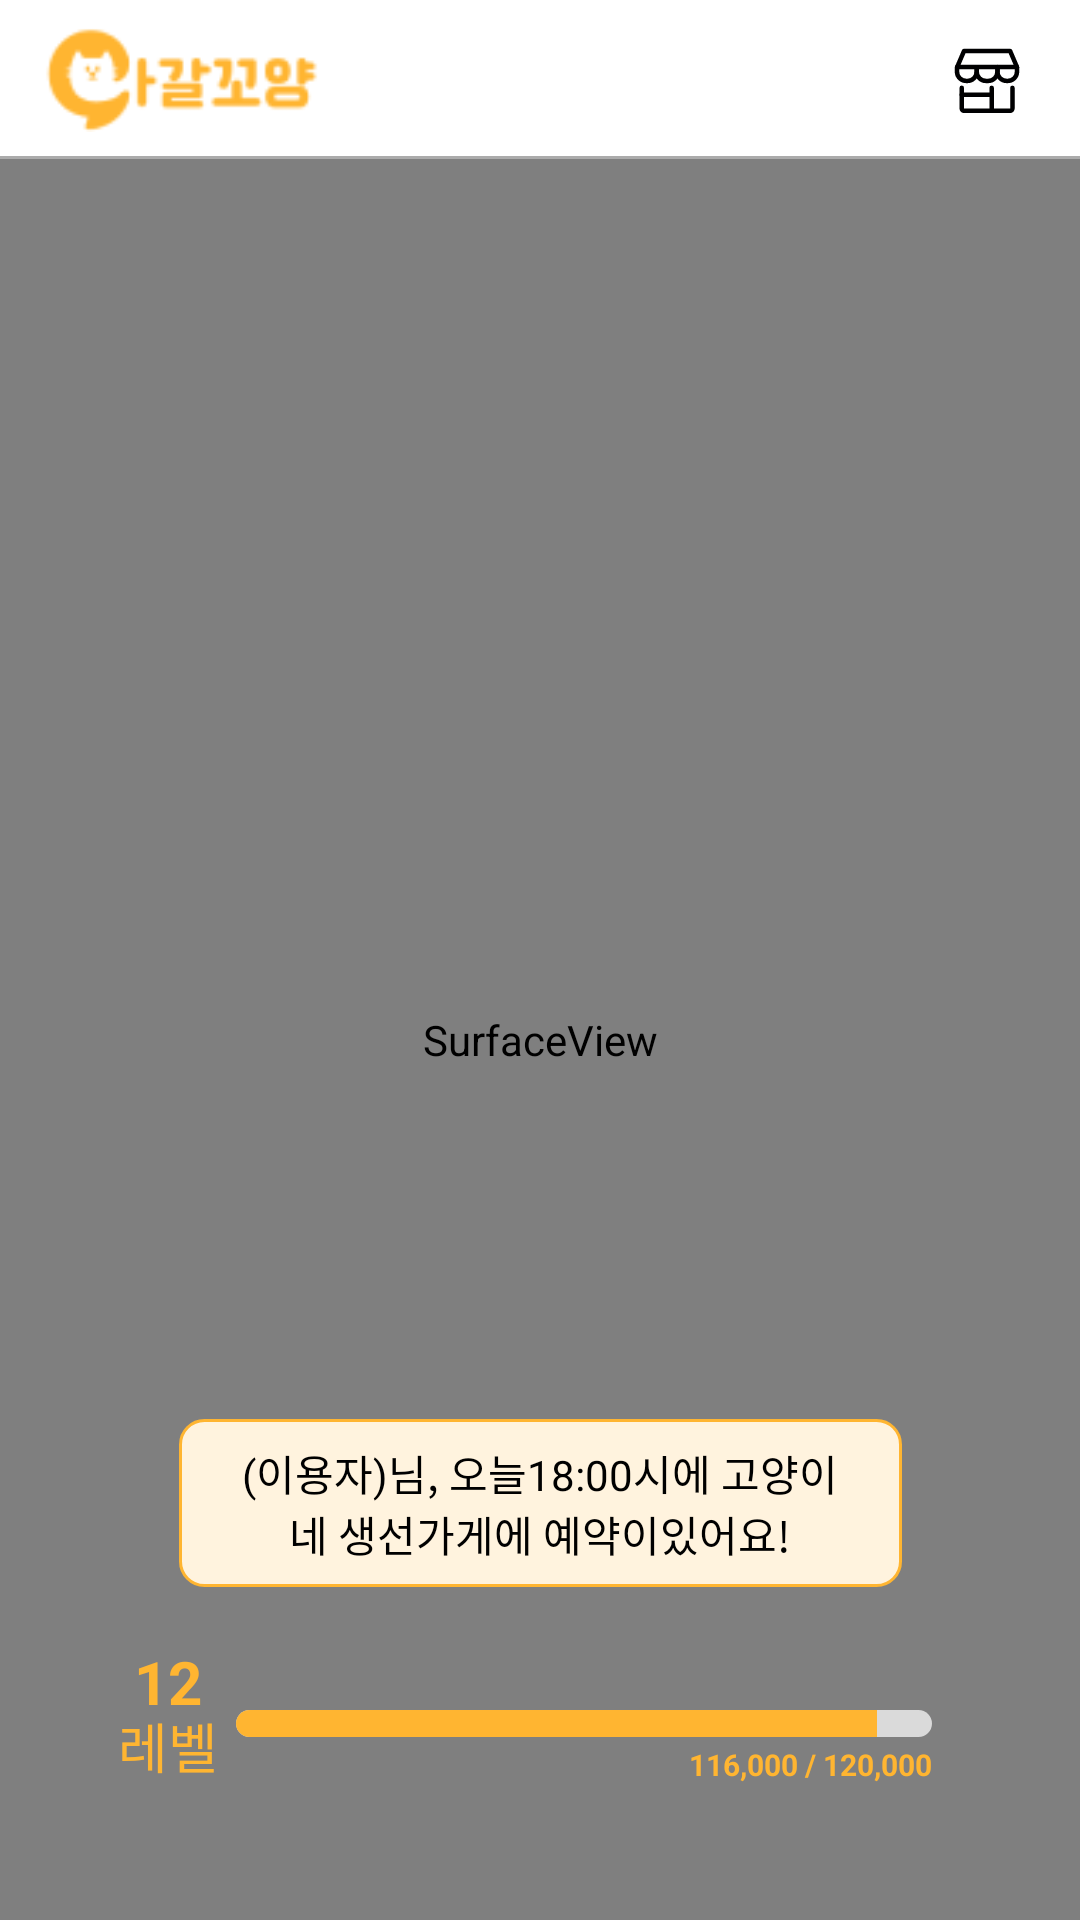

Screen size 1080w x 1920h. Icon name, then its center in pixels as (x,y):
shop: (987,80)
